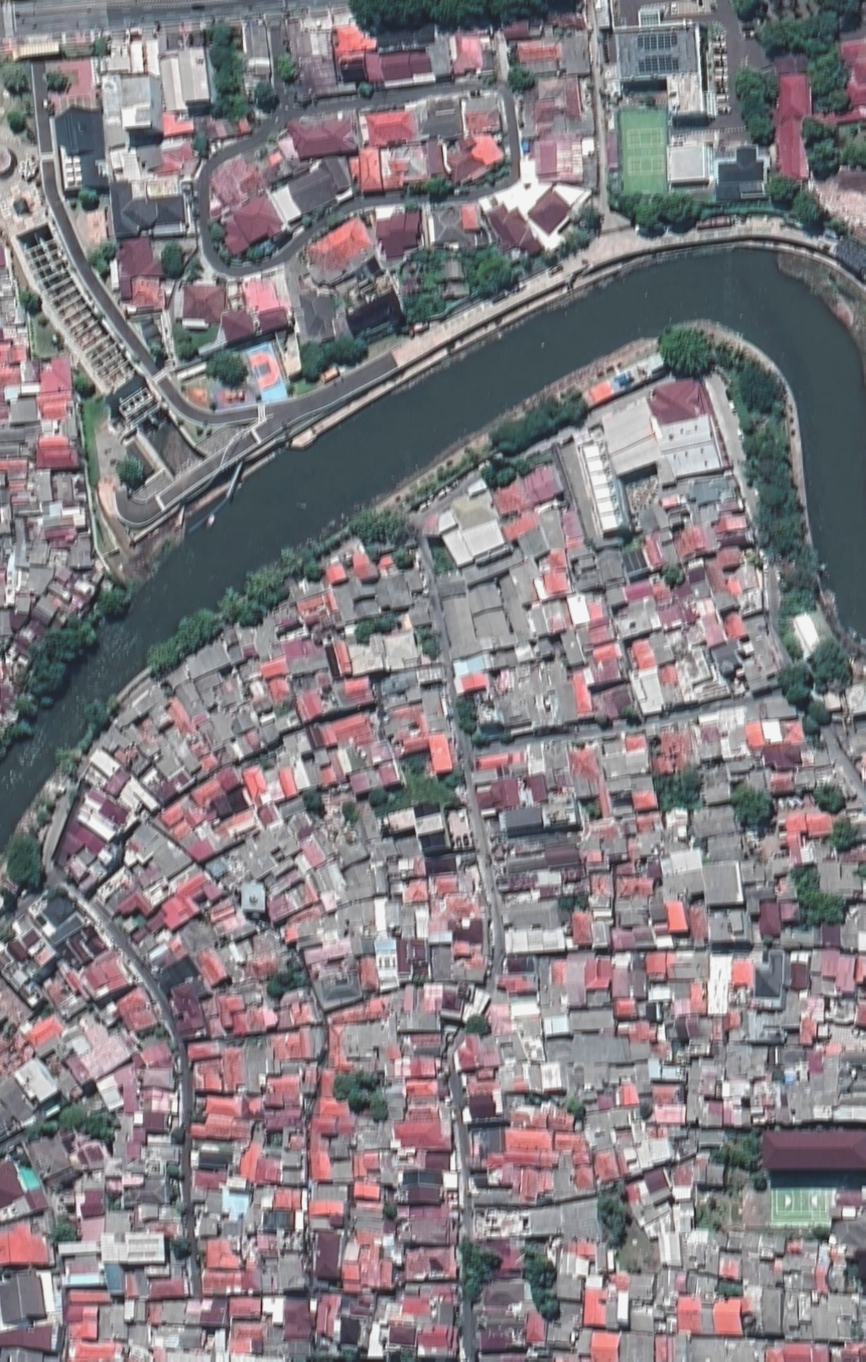building: (8, 212, 168, 433), (496, 148, 597, 250), (301, 212, 386, 290), (273, 154, 363, 226), (666, 620, 730, 706), (476, 183, 542, 266), (53, 103, 111, 194), (601, 399, 668, 477), (618, 25, 710, 81), (113, 178, 197, 239), (288, 264, 348, 349), (215, 188, 289, 256), (434, 122, 508, 190), (581, 440, 633, 536), (761, 1126, 865, 1174), (368, 191, 438, 262), (3, 908, 65, 987), (286, 14, 343, 99), (658, 414, 728, 482), (198, 152, 268, 216), (75, 947, 141, 1012), (0, 1267, 65, 1332), (285, 111, 364, 161), (527, 1198, 602, 1247), (54, 917, 114, 977), (346, 290, 411, 345), (523, 130, 586, 183), (431, 200, 498, 249), (14, 1055, 68, 1115), (648, 376, 712, 426), (232, 943, 298, 991), (496, 867, 586, 902), (204, 889, 260, 945), (119, 71, 165, 139), (79, 1031, 136, 1084), (716, 145, 768, 203), (165, 976, 210, 1042), (138, 136, 198, 185), (113, 987, 166, 1042), (26, 1132, 78, 1188), (235, 827, 288, 881), (462, 546, 528, 589), (0, 1220, 55, 1271), (37, 968, 88, 1023), (546, 1033, 633, 1065), (164, 723, 210, 783), (744, 613, 787, 677), (646, 865, 710, 908), (115, 816, 170, 866), (339, 1018, 400, 1063), (497, 572, 536, 642), (530, 74, 584, 124), (493, 668, 532, 736), (810, 1293, 862, 1344), (174, 867, 227, 917), (440, 595, 481, 659), (501, 825, 580, 858), (205, 848, 255, 900), (262, 878, 319, 923), (378, 141, 430, 190), (449, 479, 498, 531), (20, 1009, 70, 1059), (398, 1199, 457, 1241), (471, 1302, 527, 1346), (467, 1118, 511, 1173), (435, 508, 475, 568), (176, 280, 227, 327), (212, 805, 265, 850), (101, 1232, 169, 1267), (612, 595, 664, 640), (309, 859, 354, 911), (475, 1279, 528, 1323), (361, 107, 419, 147), (114, 776, 161, 825), (760, 990, 809, 1037), (775, 121, 811, 184), (666, 72, 712, 121), (627, 1190, 673, 1239), (326, 996, 392, 1030), (439, 981, 491, 1024), (312, 970, 365, 1012), (417, 96, 465, 142), (46, 910, 94, 956), (348, 760, 406, 798), (241, 24, 274, 90), (0, 1186, 53, 1227), (0, 1150, 35, 1211), (403, 1246, 459, 1284), (243, 268, 289, 314), (143, 1081, 189, 1127), (464, 517, 511, 562), (808, 1056, 840, 1122), (568, 743, 604, 801), (340, 737, 396, 774), (414, 799, 451, 855), (154, 1299, 228, 1327), (178, 822, 224, 867), (670, 141, 714, 188), (332, 711, 385, 750), (0, 1076, 39, 1129), (385, 700, 434, 742), (182, 638, 231, 680), (258, 856, 307, 898), (502, 898, 562, 932), (383, 48, 435, 87), (685, 1051, 730, 1096), (150, 792, 197, 835), (0, 1323, 63, 1355), (264, 1069, 315, 1108), (504, 1127, 555, 1166), (180, 48, 213, 108), (150, 839, 195, 883), (175, 914, 220, 958), (70, 1134, 115, 1178), (521, 463, 567, 506), (755, 951, 789, 1009), (495, 805, 546, 843), (335, 899, 379, 943), (335, 580, 380, 623), (190, 943, 232, 989), (116, 238, 163, 279), (383, 630, 430, 671), (394, 1120, 454, 1152), (0, 946, 38, 996), (333, 11, 377, 54), (281, 635, 327, 676), (548, 1303, 583, 1356), (372, 572, 414, 616), (215, 305, 260, 346), (704, 861, 745, 906), (691, 803, 742, 839), (369, 1323, 416, 1362), (505, 926, 568, 955), (705, 954, 734, 1017), (787, 1242, 825, 1290), (538, 550, 575, 599), (38, 890, 81, 932), (341, 858, 382, 902), (776, 72, 812, 122), (155, 955, 200, 995), (189, 1115, 253, 1143), (475, 777, 522, 815), (525, 740, 572, 778), (249, 613, 284, 664), (121, 277, 169, 314), (43, 580, 87, 620), (75, 802, 119, 842), (819, 860, 864, 899), (601, 748, 654, 781), (313, 1229, 343, 1287), (377, 1293, 435, 1323), (475, 607, 515, 650), (632, 666, 667, 715), (592, 684, 637, 722), (417, 1325, 464, 1361), (399, 1218, 457, 1247), (463, 93, 504, 134), (755, 690, 798, 729), (719, 707, 750, 761), (474, 1209, 528, 1240), (553, 1245, 597, 1283), (782, 1291, 814, 1343), (657, 726, 693, 772), (202, 1270, 261, 1298), (491, 476, 531, 517), (137, 765, 177, 806), (218, 932, 258, 973), (690, 1124, 730, 1165), (531, 599, 573, 638), (634, 1135, 677, 1173), (358, 1233, 402, 1270), (829, 232, 866, 276), (710, 1227, 740, 1281), (690, 474, 739, 507), (513, 1016, 546, 1065), (450, 30, 485, 76), (423, 684, 455, 734), (694, 712, 726, 762), (431, 892, 482, 923), (161, 56, 188, 114), (538, 506, 572, 552), (570, 546, 604, 592), (60, 854, 99, 894), (66, 817, 107, 855), (140, 1139, 181, 1177), (712, 638, 754, 675), (242, 761, 275, 808), (709, 909, 752, 945), (584, 1111, 620, 1154), (822, 951, 858, 994), (512, 561, 547, 605), (297, 588, 341, 623), (333, 675, 377, 710), (574, 1060, 618, 1095), (244, 1040, 274, 1091), (118, 890, 157, 929), (348, 634, 385, 675), (347, 1178, 389, 1214), (0, 989, 36, 1031), (303, 939, 353, 969), (98, 796, 137, 834), (839, 1054, 865, 1111), (140, 941, 180, 978), (461, 1067, 502, 1103), (537, 985, 572, 1027), (462, 1091, 505, 1125), (352, 148, 383, 195), (585, 657, 629, 690), (308, 612, 346, 650), (273, 728, 312, 765), (673, 520, 709, 560), (174, 678, 209, 719), (63, 1255, 104, 1290), (95, 1074, 130, 1115), (375, 938, 402, 991), (591, 1149, 625, 1191), (65, 1282, 114, 1311), (750, 1079, 779, 1128), (476, 1328, 519, 1361), (284, 1298, 316, 1342), (561, 1135, 598, 1173), (487, 1002, 518, 1047), (398, 940, 432, 981), (643, 1167, 677, 1208), (844, 43, 866, 106), (428, 731, 461, 773), (354, 1121, 396, 1154), (785, 1081, 818, 1123), (36, 418, 82, 448), (111, 1113, 141, 1159), (377, 805, 420, 837), (31, 596, 69, 632), (125, 1177, 169, 1208), (501, 507, 542, 540), (213, 785, 254, 818), (77, 1178, 110, 1219), (152, 1327, 206, 1352), (195, 117, 251, 141), (794, 612, 823, 658), (684, 556, 715, 599), (636, 501, 673, 537), (97, 864, 133, 901), (270, 1029, 307, 1065), (529, 1062, 566, 1098), (213, 674, 248, 712), (470, 1170, 508, 1205), (39, 354, 73, 393), (6, 386, 40, 425), (60, 1023, 94, 1062), (315, 1293, 342, 1342), (269, 818, 302, 858), (284, 904, 326, 935), (307, 1134, 333, 1184), (674, 1336, 726, 1361), (685, 900, 712, 948), (192, 1162, 227, 1199), (15, 978, 50, 1015), (22, 559, 56, 597), (192, 1058, 226, 1096), (327, 1026, 355, 1072), (164, 695, 197, 734), (66, 1304, 99, 1343), (542, 798, 581, 831), (659, 599, 699, 631), (323, 638, 355, 678), (492, 1240, 524, 1280), (570, 667, 595, 718), (707, 834, 748, 865), (762, 741, 803, 772), (278, 1252, 309, 1293), (517, 37, 564, 64), (16, 616, 51, 652), (157, 895, 192, 931), (191, 776, 227, 811), (660, 848, 705, 876), (397, 1010, 442, 1038), (295, 687, 329, 724), (292, 918, 329, 952), (520, 1168, 554, 1205), (81, 1015, 115, 1052), (470, 750, 527, 772), (256, 303, 295, 335), (686, 1097, 725, 1129), (0, 1028, 23, 1082), (431, 1284, 459, 1328), (507, 1103, 551, 1131), (713, 1006, 749, 1040), (775, 1076, 799, 1127), (222, 1046, 248, 1093), (340, 1291, 377, 1324), (528, 693, 560, 731), (691, 1160, 729, 1192), (261, 1208, 306, 1235), (387, 1058, 442, 1080), (98, 1303, 128, 1343), (714, 1298, 744, 1338), (85, 560, 120, 594), (520, 662, 555, 696), (204, 1242, 245, 1271), (468, 581, 504, 614), (263, 1107, 307, 1134), (362, 1258, 398, 1291), (504, 1147, 558, 1169), (168, 860, 206, 891), (217, 989, 248, 1027), (229, 1321, 267, 1352), (616, 1019, 658, 1047), (570, 1009, 617, 1034), (111, 145, 141, 184), (402, 1034, 447, 1060), (685, 1229, 712, 1272), (435, 567, 469, 601), (729, 1011, 763, 1045), (338, 52, 371, 87), (516, 526, 549, 561), (141, 877, 176, 910), (214, 761, 249, 794), (395, 1151, 427, 1187), (579, 842, 611, 878), (104, 1209, 135, 1246), (598, 548, 628, 586), (705, 552, 735, 590), (740, 656, 770, 694), (67, 1340, 121, 1361), (745, 1285, 766, 1339), (745, 1045, 774, 1084), (471, 1188, 520, 1211), (286, 808, 319, 842), (568, 956, 587, 1015), (475, 689, 503, 729), (235, 977, 267, 1012), (744, 883, 779, 915), (451, 651, 494, 677), (238, 1142, 264, 1185), (334, 840, 370, 871), (741, 1234, 762, 1287), (668, 951, 705, 981), (560, 628, 587, 669), (602, 735, 648, 759), (761, 1287, 784, 1335), (633, 1061, 656, 1109), (139, 1206, 183, 1231), (441, 258, 469, 297), (151, 744, 184, 777), (246, 1001, 279, 1034), (66, 572, 100, 604), (291, 757, 322, 792), (643, 1211, 678, 1242), (834, 1218, 865, 1253), (554, 1156, 577, 1203), (789, 843, 834, 867), (380, 668, 421, 694), (583, 1286, 609, 1327), (132, 856, 164, 889), (110, 1061, 143, 1093), (391, 984, 424, 1016), (499, 1063, 531, 1096), (623, 1180, 654, 1214), (300, 1026, 327, 1065), (544, 844, 583, 871), (249, 926, 284, 956), (299, 835, 329, 870), (742, 717, 772, 752), (556, 112, 596, 138), (617, 872, 657, 898), (135, 1043, 175, 1069), (40, 392, 77, 420), (430, 38, 454, 81), (654, 1292, 678, 1335), (671, 1161, 695, 1204), (562, 36, 589, 74), (382, 685, 423, 710), (204, 1095, 245, 1120), (270, 600, 303, 631), (227, 703, 258, 736), (663, 493, 693, 527), (728, 956, 758, 990), (424, 138, 450, 177), (139, 1066, 178, 1092), (314, 1097, 353, 1123), (495, 973, 539, 996), (46, 503, 88, 527), (560, 511, 588, 547), (700, 612, 728, 648), (555, 682, 579, 724), (191, 1149, 233, 1173), (272, 1185, 308, 1213), (686, 1016, 711, 1056), (648, 630, 675, 667), (56, 1066, 83, 1103), (834, 1189, 865, 1221), (273, 705, 306, 735), (149, 1277, 190, 1301), (585, 956, 613, 991), (677, 1296, 702, 1335), (455, 1036, 482, 1072), (815, 108, 866, 127), (89, 747, 120, 778), (103, 766, 133, 798), (764, 765, 796, 795), (147, 1219, 187, 1243), (67, 535, 96, 568), (689, 501, 722, 530), (627, 638, 656, 671), (367, 836, 400, 865), (735, 588, 769, 616), (621, 1333, 655, 1361), (617, 1145, 645, 1179), (551, 9, 589, 34), (650, 572, 677, 607), (198, 718, 225, 753), (404, 903, 431, 938), (586, 591, 610, 630), (265, 766, 291, 802), (119, 1080, 145, 1116), (114, 739, 145, 769), (326, 1135, 356, 1166), (719, 609, 748, 641), (630, 1121, 662, 1150), (454, 671, 491, 696), (699, 782, 736, 807), (654, 1269, 679, 1306), (54, 473, 87, 501), (549, 641, 570, 685), (353, 549, 381, 582), (406, 1101, 448, 1123), (354, 1151, 381, 1185), (630, 832, 664, 859), (505, 21, 553, 40), (186, 1040, 224, 1064), (505, 854, 548, 875), (622, 547, 652, 577), (277, 1230, 307, 1260), (163, 108, 195, 136), (255, 1155, 283, 1187), (416, 982, 444, 1014), (568, 592, 594, 626), (312, 827, 338, 861), (840, 731, 866, 765), (582, 1089, 616, 1115), (406, 1080, 448, 1101), (782, 926, 822, 948), (432, 945, 455, 983), (104, 724, 134, 753), (591, 1331, 620, 1361), (734, 562, 762, 593), (643, 533, 667, 569), (140, 732, 172, 759), (292, 1001, 324, 1028), (195, 1192, 227, 1219), (549, 772, 576, 804), (38, 448, 81, 468), (431, 876, 474, 896), (582, 818, 621, 840), (499, 1163, 525, 1196), (394, 732, 431, 755), (661, 1232, 684, 1269), (671, 981, 694, 1018), (449, 919, 483, 944), (222, 1190, 251, 1219), (253, 1185, 282, 1214), (401, 1186, 443, 1206), (630, 1305, 657, 1336), (801, 995, 828, 1026), (712, 512, 750, 534), (726, 1339, 764, 1361), (525, 773, 551, 805), (718, 1253, 744, 1285), (726, 1049, 752, 1081), (261, 1259, 284, 1295), (229, 1296, 262, 1321), (242, 1205, 267, 1238), (653, 1084, 686, 1109), (572, 911, 596, 945), (659, 529, 681, 566), (359, 955, 381, 992), (167, 765, 196, 793), (556, 1275, 585, 1303), (629, 1274, 656, 1304), (260, 656, 291, 682), (263, 1326, 286, 1361), (302, 720, 327, 752), (791, 951, 811, 991), (775, 1047, 807, 1072), (263, 1092, 301, 1113), (425, 853, 458, 877), (339, 1315, 363, 1348), (81, 764, 109, 792), (57, 832, 85, 860), (166, 662, 195, 689), (278, 794, 308, 820), (124, 1271, 150, 1301), (243, 882, 268, 913), (800, 747, 831, 772), (402, 1170, 445, 1188), (278, 763, 300, 798), (652, 1063, 687, 1085), (688, 1079, 723, 1101), (211, 708, 235, 740), (479, 1037, 503, 1069), (0, 1348, 59, 1361), (742, 859, 775, 882), (341, 1238, 368, 1266), (673, 1203, 694, 1239), (194, 1216, 223, 1242), (624, 578, 654, 603), (645, 951, 670, 981), (666, 899, 688, 933), (594, 640, 625, 664), (154, 1349, 216, 1361), (718, 531, 755, 551), (374, 897, 392, 938), (279, 622, 311, 645), (666, 807, 689, 839), (59, 1242, 102, 1259), (127, 751, 154, 778), (544, 1013, 571, 1040), (113, 704, 141, 730), (166, 818, 194, 844), (401, 855, 429, 881), (697, 1275, 719, 1308), (194, 668, 223, 693), (290, 848, 315, 877), (680, 1270, 705, 1299), (845, 684, 866, 718), (524, 1313, 546, 1345), (606, 1295, 625, 1332), (97, 840, 123, 867), (256, 801, 282, 828), (308, 1214, 347, 1232), (310, 1185, 349, 1203), (0, 1103, 18, 1142), (328, 747, 348, 782), (334, 1113, 359, 1141), (2, 341, 31, 365), (590, 622, 619, 646), (166, 931, 190, 960), (637, 810, 666, 834), (128, 1324, 152, 1353), (654, 1105, 687, 1126), (422, 1150, 452, 1173), (573, 1165, 596, 1195), (501, 955, 537, 974), (761, 901, 781, 935), (2, 299, 28, 325), (712, 586, 738, 612), (132, 691, 158, 717), (268, 675, 293, 702), (122, 722, 147, 749), (133, 934, 160, 959), (614, 1082, 639, 1109), (48, 528, 80, 549), (81, 1216, 105, 1244), (472, 769, 500, 793), (759, 1261, 783, 1289), (759, 1234, 787, 1258), (0, 426, 37, 444), (381, 1152, 399, 1189), (11, 496, 44, 516), (565, 1240, 598, 1260), (607, 1067, 637, 1089), (280, 987, 311, 1008), (68, 1056, 89, 1087), (147, 704, 172, 730), (292, 672, 319, 696), (239, 658, 266, 682), (807, 812, 834, 836), (609, 1109, 636, 1133), (674, 1140, 698, 1167), (352, 1214, 386, 1233), (690, 982, 709, 1016), (717, 546, 745, 569), (262, 1296, 285, 1324), (257, 1234, 280, 1262), (311, 1117, 339, 1140), (828, 1001, 856, 1024), (105, 1263, 125, 1295), (699, 1304, 719, 1336), (286, 1339, 315, 1361), (342, 1263, 364, 1292), (548, 1111, 577, 1133), (832, 1342, 865, 1361), (83, 786, 108, 811), (149, 684, 173, 710), (404, 879, 428, 905), (795, 769, 819, 795), (331, 1159, 354, 1186), (372, 865, 392, 896), (654, 458, 676, 486), (144, 1111, 172, 1133), (605, 837, 627, 865), (243, 1236, 259, 1274), (783, 1342, 815, 1361), (692, 595, 717, 619), (325, 562, 349, 587), (136, 717, 160, 742), (106, 885, 131, 909), (589, 895, 614, 919), (124, 1301, 148, 1326), (241, 1096, 265, 1121), (631, 1041, 657, 1064), (819, 1041, 845, 1064), (524, 59, 559, 76), (616, 895, 649, 913), (776, 874, 798, 901), (633, 790, 660, 812), (310, 1201, 347, 1217), (511, 1001, 542, 1020), (593, 1244, 612, 1275), (612, 968, 631, 999), (554, 1133, 583, 1153), (366, 50, 384, 82), (408, 603, 432, 627), (814, 1259, 830, 1295), (661, 682, 684, 707), (317, 765, 339, 791), (592, 872, 614, 898), (281, 1166, 307, 1188), (107, 55, 137, 74), (417, 665, 447, 684), (318, 1070, 337, 1100), (30, 539, 51, 566), (386, 902, 403, 935), (576, 1329, 593, 1362), (607, 131, 621, 171), (387, 1094, 407, 1122), (598, 780, 612, 820), (128, 42, 146, 73), (606, 584, 629, 608), (781, 720, 805, 743), (613, 999, 637, 1022), (656, 1022, 680, 1045), (280, 1151, 305, 1173), (403, 566, 424, 592), (224, 736, 245, 762), (586, 989, 612, 1010), (276, 1060, 310, 1076), (492, 650, 519, 670), (779, 1255, 806, 1275), (722, 1081, 752, 1099), (592, 919, 611, 947), (621, 909, 649, 928), (183, 806, 206, 829), (144, 42, 160, 75), (260, 719, 282, 743), (213, 1329, 229, 1362), (612, 955, 645, 971), (832, 1105, 865, 1121), (246, 727, 267, 752), (235, 731, 256, 756), (612, 928, 637, 949), (638, 1003, 663, 1024), (515, 641, 537, 664), (199, 751, 221, 774), (221, 1220, 245, 1241), (631, 971, 649, 999), (821, 922, 841, 947), (762, 719, 782, 744), (800, 1240, 820, 1265), (454, 967, 487, 982), (28, 515, 47, 541), (320, 722, 339, 748), (839, 847, 865, 866), (8, 610, 30, 632), (659, 662, 680, 685), (129, 926, 152, 947), (144, 913, 167, 934), (617, 1292, 630, 1329), (23, 359, 43, 383), (421, 514, 441, 538), (799, 1021, 819, 1045), (233, 1011, 252, 1036), (655, 1336, 674, 1361), (811, 977, 836, 996), (654, 1040, 672, 1066), (1, 326, 30, 342), (672, 578, 693, 600), (533, 638, 554, 660), (251, 693, 273, 714), (77, 845, 98, 867), (633, 926, 655, 947), (609, 1274, 631, 1295), (312, 745, 332, 768), (284, 1133, 307, 1153), (727, 1107, 750, 1127), (632, 774, 656, 793), (39, 470, 53, 502), (15, 516, 31, 544), (451, 942, 483, 956), (551, 959, 568, 985), (191, 738, 212, 759), (200, 686, 220, 708), (215, 746, 235, 768), (786, 813, 808, 833), (352, 937, 374, 957), (1, 365, 20, 388), (206, 1015, 225, 1038), (615, 860, 638, 879), (596, 1, 611, 30), (2, 269, 17, 298), (717, 499, 746, 514), (7, 649, 31, 667), (123, 1161, 148, 1178), (276, 1008, 296, 1029), (129, 1126, 150, 1146), (616, 1131, 636, 1152), (824, 689, 843, 711), (1, 445, 33, 458), (16, 569, 32, 595), (622, 814, 640, 837), (829, 1267, 846, 1291), (540, 959, 552, 993), (147, 1133, 176, 1147), (248, 676, 268, 696), (781, 901, 801, 921), (225, 1178, 250, 1194), (808, 1052, 824, 1077), (821, 1245, 842, 1264), (146, 1302, 164, 1324), (203, 993, 220, 1016), (649, 986, 672, 1003), (605, 104, 620, 130), (12, 479, 38, 494), (16, 544, 32, 568), (14, 593, 33, 613), (222, 627, 241, 647), (13, 641, 34, 659), (228, 643, 246, 664), (105, 1178, 126, 1196), (0, 611, 15, 636), (455, 956, 488, 967), (55, 565, 74, 584), (100, 735, 119, 754), (8, 553, 20, 583), (183, 727, 203, 745), (105, 1162, 123, 1182), (191, 710, 212, 727), (811, 1344, 832, 1361), (123, 1174, 145, 1190), (128, 1348, 155, 1361), (603, 63, 621, 82), (386, 1082, 405, 1100), (1, 461, 35, 471), (855, 955, 865, 989), (1, 537, 13, 565), (646, 857, 662, 878), (764, 1346, 786, 1361), (606, 79, 623, 98), (51, 549, 70, 566), (586, 156, 597, 184), (121, 917, 139, 934), (653, 922, 672, 938), (126, 1141, 142, 1160), (585, 1275, 605, 1290), (811, 951, 823, 976), (786, 831, 803, 848), (316, 670, 332, 688), (376, 554, 395, 569), (654, 936, 674, 950), (756, 1032, 781, 1043), (123, 875, 139, 892), (651, 906, 668, 922), (855, 1002, 865, 1028), (430, 932, 452, 943), (429, 920, 449, 932), (789, 1274, 803, 1291), (259, 710, 277, 723), (242, 644, 258, 658), (585, 137, 598, 154), (6, 585, 18, 603), (723, 1104, 732, 1126), (856, 932, 865, 953), (784, 1274, 795, 1291), (0, 584, 8, 607), (1, 488, 11, 506), (744, 640, 756, 655), (1, 522, 14, 535), (1, 506, 12, 521), (0, 471, 10, 487), (0, 570, 6, 584)
tree: (482, 383, 592, 464), (138, 601, 229, 682), (24, 609, 110, 689), (724, 350, 794, 434), (750, 492, 817, 566), (206, 21, 252, 124), (440, 1236, 504, 1307), (727, 67, 781, 148), (548, 200, 612, 267), (458, 241, 523, 306), (610, 190, 706, 233), (739, 416, 797, 486), (787, 860, 841, 932), (755, 14, 838, 60), (776, 544, 828, 616), (747, 459, 803, 525), (237, 558, 298, 618), (68, 691, 121, 760), (592, 1178, 639, 1253), (329, 1066, 393, 1120), (804, 635, 858, 698), (658, 323, 716, 380), (398, 280, 455, 332), (56, 1097, 121, 1142), (258, 956, 314, 1008), (807, 51, 852, 115), (726, 783, 780, 836), (201, 345, 252, 398), (19, 656, 68, 711), (713, 1128, 764, 1179), (2, 831, 45, 891), (431, 445, 485, 492), (528, 1246, 560, 1324), (212, 585, 262, 634), (106, 450, 155, 499), (805, 774, 854, 823), (655, 767, 706, 814), (775, 660, 819, 711), (358, 0, 427, 30), (819, 813, 865, 858), (350, 607, 403, 646), (320, 332, 371, 372), (349, 511, 408, 545), (805, 119, 838, 179), (366, 780, 414, 821), (787, 186, 828, 231), (83, 233, 122, 280), (760, 171, 801, 213), (773, 604, 803, 661), (486, 0, 556, 24), (277, 542, 321, 580), (429, 0, 490, 27), (22, 793, 62, 834), (500, 61, 540, 101), (399, 748, 437, 790), (267, 50, 307, 89), (400, 474, 442, 510), (480, 156, 518, 195), (412, 249, 448, 290), (817, 0, 864, 30), (481, 455, 519, 492), (802, 698, 834, 740), (11, 284, 47, 320), (95, 586, 131, 622), (299, 341, 329, 384), (808, 895, 847, 926), (8, 689, 42, 724), (840, 125, 865, 171), (300, 786, 330, 822), (714, 340, 743, 377), (67, 370, 99, 403), (252, 82, 282, 117), (45, 1217, 80, 1247), (160, 242, 187, 280), (0, 62, 29, 97), (23, 1118, 63, 1143), (439, 764, 470, 796), (562, 1093, 593, 1125), (455, 696, 479, 737), (171, 321, 194, 363), (73, 184, 104, 215), (416, 627, 443, 662), (659, 561, 688, 592), (730, 0, 766, 24), (429, 544, 454, 577), (415, 175, 452, 197), (822, 214, 851, 242), (509, 452, 537, 481), (167, 1236, 195, 1264), (337, 800, 363, 830), (165, 1161, 186, 1197), (144, 1022, 172, 1049), (57, 750, 82, 779), (242, 242, 269, 267), (182, 257, 205, 286), (208, 220, 229, 251), (44, 71, 71, 95), (2, 722, 29, 746), (463, 1015, 491, 1037), (6, 110, 29, 135), (192, 135, 212, 163), (148, 341, 170, 366), (383, 1200, 398, 1234), (0, 915, 14, 950), (393, 548, 415, 570), (537, 251, 559, 272), (468, 733, 490, 754), (92, 36, 111, 60), (365, 544, 384, 568), (169, 1125, 187, 1147), (337, 1346, 362, 1361), (356, 83, 374, 99), (35, 316, 50, 330)
